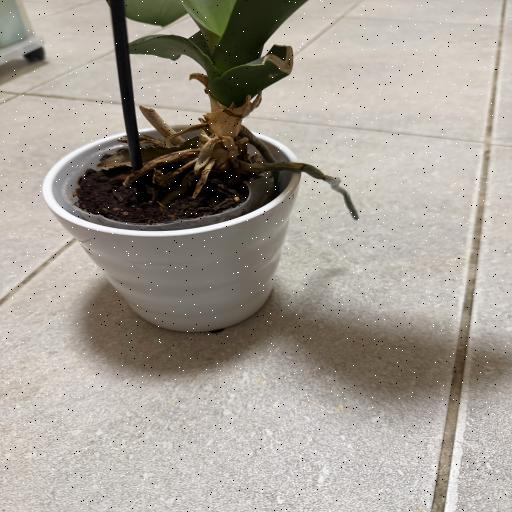Plant Pot: (40, 121, 302, 334)
